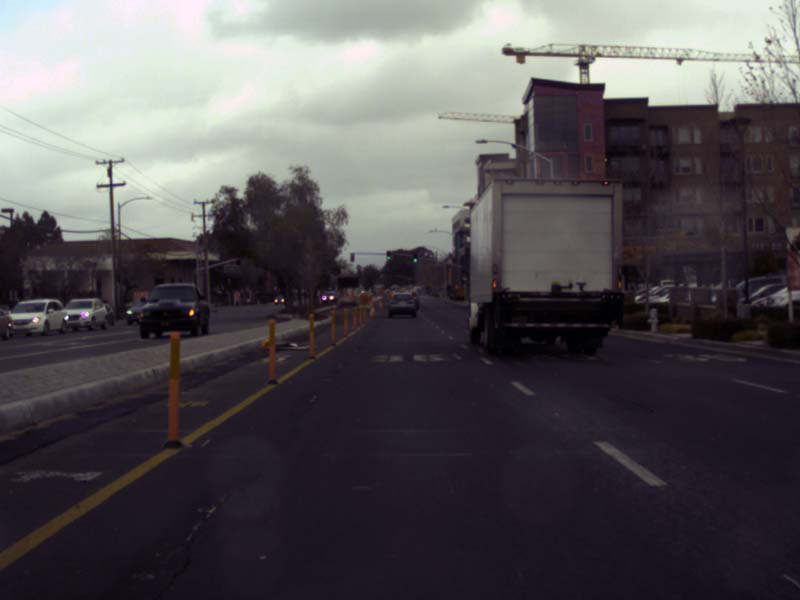Green: (386, 251, 390, 259), (413, 253, 416, 262), (472, 274, 475, 282)
Red: (350, 252, 353, 261)
